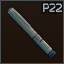P22 injector: (0, 0, 64, 64)
